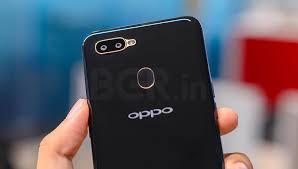oppo: (76, 14, 229, 169)
